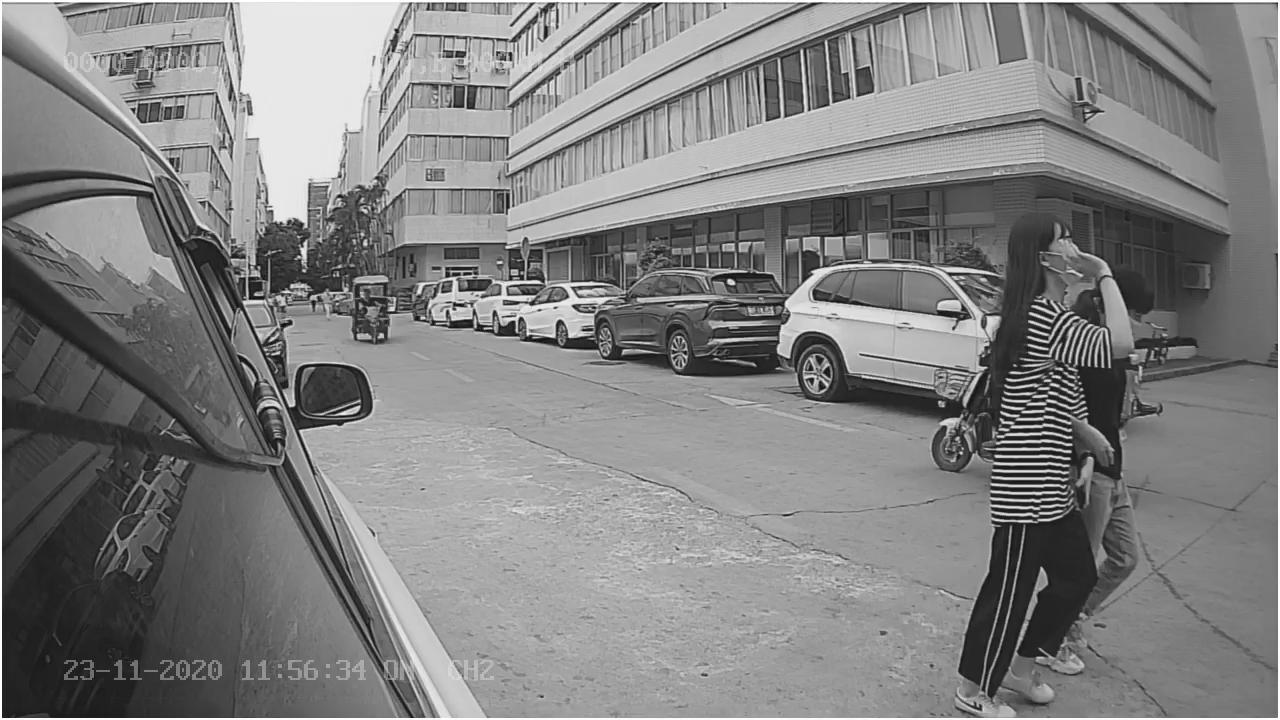person: (961, 210, 1128, 713)
